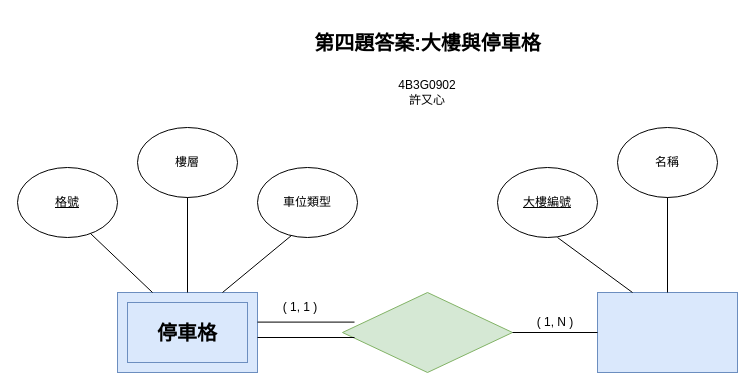
The diagram is 755 pixels wide and 390 high, and some of its shapes have lost their labels. Here are the shapes that lost their labels. From the top down, the centre of each, then its label:
(427,332): 擁有
(667,332): 大樓
